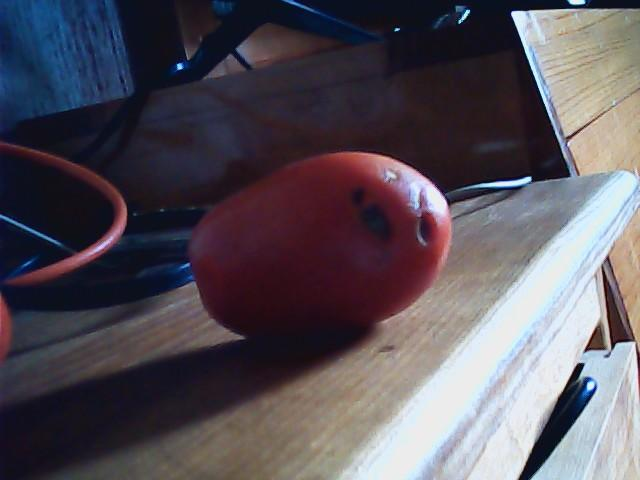defectuoso: (193, 149, 446, 350)
